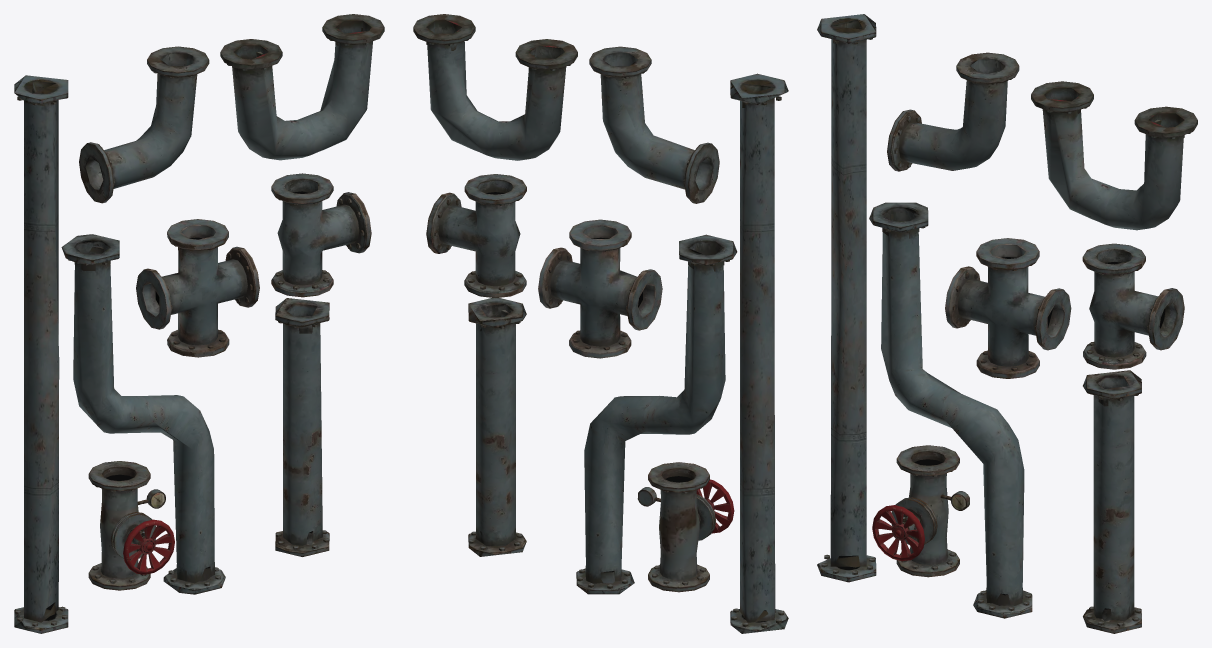
File: modular_industrial_pipes_01.glb
The picture shows the model from 3 angles, left to right: view 1: azimuth 30°, elevation 25°; view 2: azimuth 150°, elevation 25°; view 3: azimuth 330°, elevation 25°; orthographic projection.
Parts seen in each view (by area): view 1: modular_industrial_pipes_01_pipe02, modular_industrial_pipes_01_pipe03, modular_industrial_pipes_01_pipe05, modular_industrial_pipes_01_pipe01, modular_industrial_pipes_01_pipe07, modular_industrial_pipes_01_pipe04, modular_industrial_pipes_01_pipe06, modular_industrial_pipes_01_pipe08; view 2: modular_industrial_pipes_01_pipe02, modular_industrial_pipes_01_pipe03, modular_industrial_pipes_01_pipe05, modular_industrial_pipes_01_pipe01, modular_industrial_pipes_01_pipe07, modular_industrial_pipes_01_pipe04, modular_industrial_pipes_01_pipe06, modular_industrial_pipes_01_pipe08; view 3: modular_industrial_pipes_01_pipe02, modular_industrial_pipes_01_pipe03, modular_industrial_pipes_01_pipe05, modular_industrial_pipes_01_pipe01, modular_industrial_pipes_01_pipe07, modular_industrial_pipes_01_pipe06, modular_industrial_pipes_01_pipe04, modular_industrial_pipes_01_pipe08.
Boxes of the visible parts, x1,y1,x2,y2 form: modular_industrial_pipes_01_pipe02: [14, 75, 68, 633]; modular_industrial_pipes_01_pipe03: [61, 234, 225, 594]; modular_industrial_pipes_01_pipe05: [220, 14, 384, 160]; modular_industrial_pipes_01_pipe01: [275, 298, 329, 556]; modular_industrial_pipes_01_pipe07: [136, 219, 259, 357]; modular_industrial_pipes_01_pipe04: [79, 46, 209, 203]; modular_industrial_pipes_01_pipe06: [271, 173, 371, 297]; modular_industrial_pipes_01_pipe08: [88, 461, 174, 590]; modular_industrial_pipes_01_pipe02: [730, 73, 788, 633]; modular_industrial_pipes_01_pipe03: [576, 234, 737, 594]; modular_industrial_pipes_01_pipe05: [413, 14, 577, 160]; modular_industrial_pipes_01_pipe01: [468, 298, 526, 556]; modular_industrial_pipes_01_pipe07: [538, 219, 662, 358]; modular_industrial_pipes_01_pipe04: [589, 46, 719, 203]; modular_industrial_pipes_01_pipe06: [426, 174, 526, 297]; modular_industrial_pipes_01_pipe08: [637, 462, 734, 592]; modular_industrial_pipes_01_pipe02: [817, 14, 876, 582]; modular_industrial_pipes_01_pipe03: [869, 202, 1032, 618]; modular_industrial_pipes_01_pipe05: [1031, 81, 1197, 230]; modular_industrial_pipes_01_pipe01: [1083, 370, 1141, 633]; modular_industrial_pipes_01_pipe07: [945, 238, 1071, 378]; modular_industrial_pipes_01_pipe06: [1082, 243, 1184, 369]; modular_industrial_pipes_01_pipe04: [887, 52, 1019, 171]; modular_industrial_pipes_01_pipe08: [872, 445, 969, 577].
Size of the model in its own units: 1.4 by 1.95 by 0.3075.
2 materials, 2 textured.
